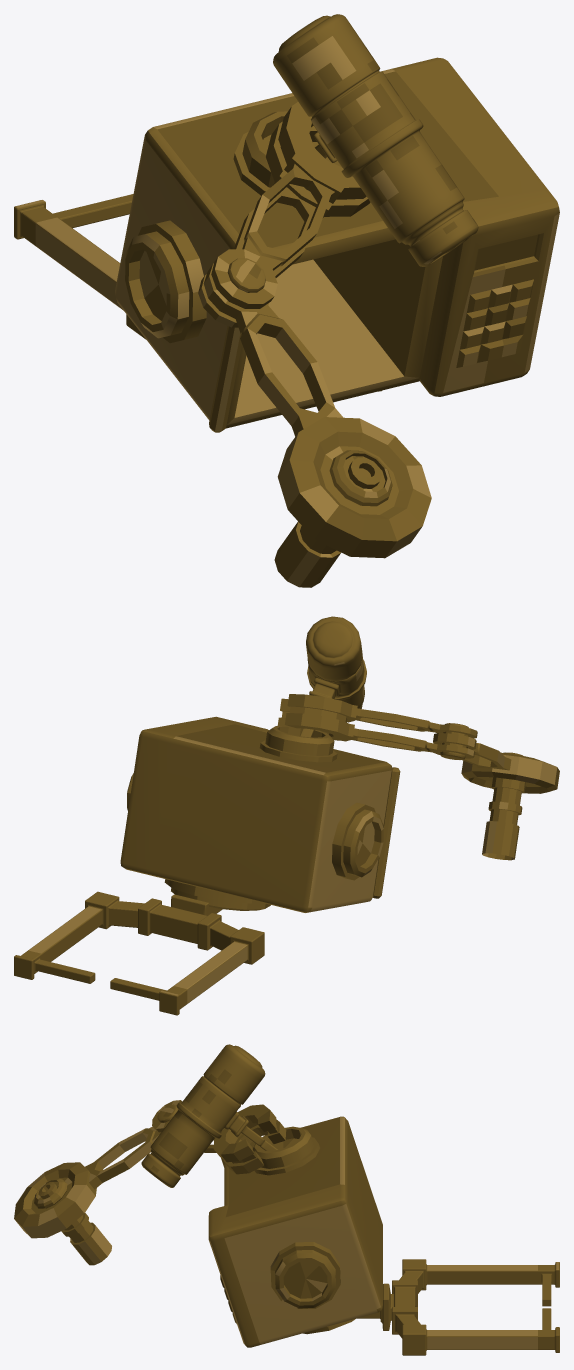
File: scrap3.fbx
The picture shows the model from 3 angles, top to bottom: view 1: azimuth 30°, elevation 25°; view 2: azimuth 150°, elevation 25°; view 3: azimuth 270°, elevation 25°; orthographic projection. The views are drawn at different scales.
Visible parts, largest first — view 1: scrap3; view 2: scrap3; view 3: scrap3.
Boxes of the visible parts, box(x1,y1,x2,y2) form: scrap3: box(14, 14, 559, 587); scrap3: box(14, 616, 559, 1015); scrap3: box(14, 1044, 559, 1355).
Size of the model in its own units: 92.41 by 88.76 by 172.
